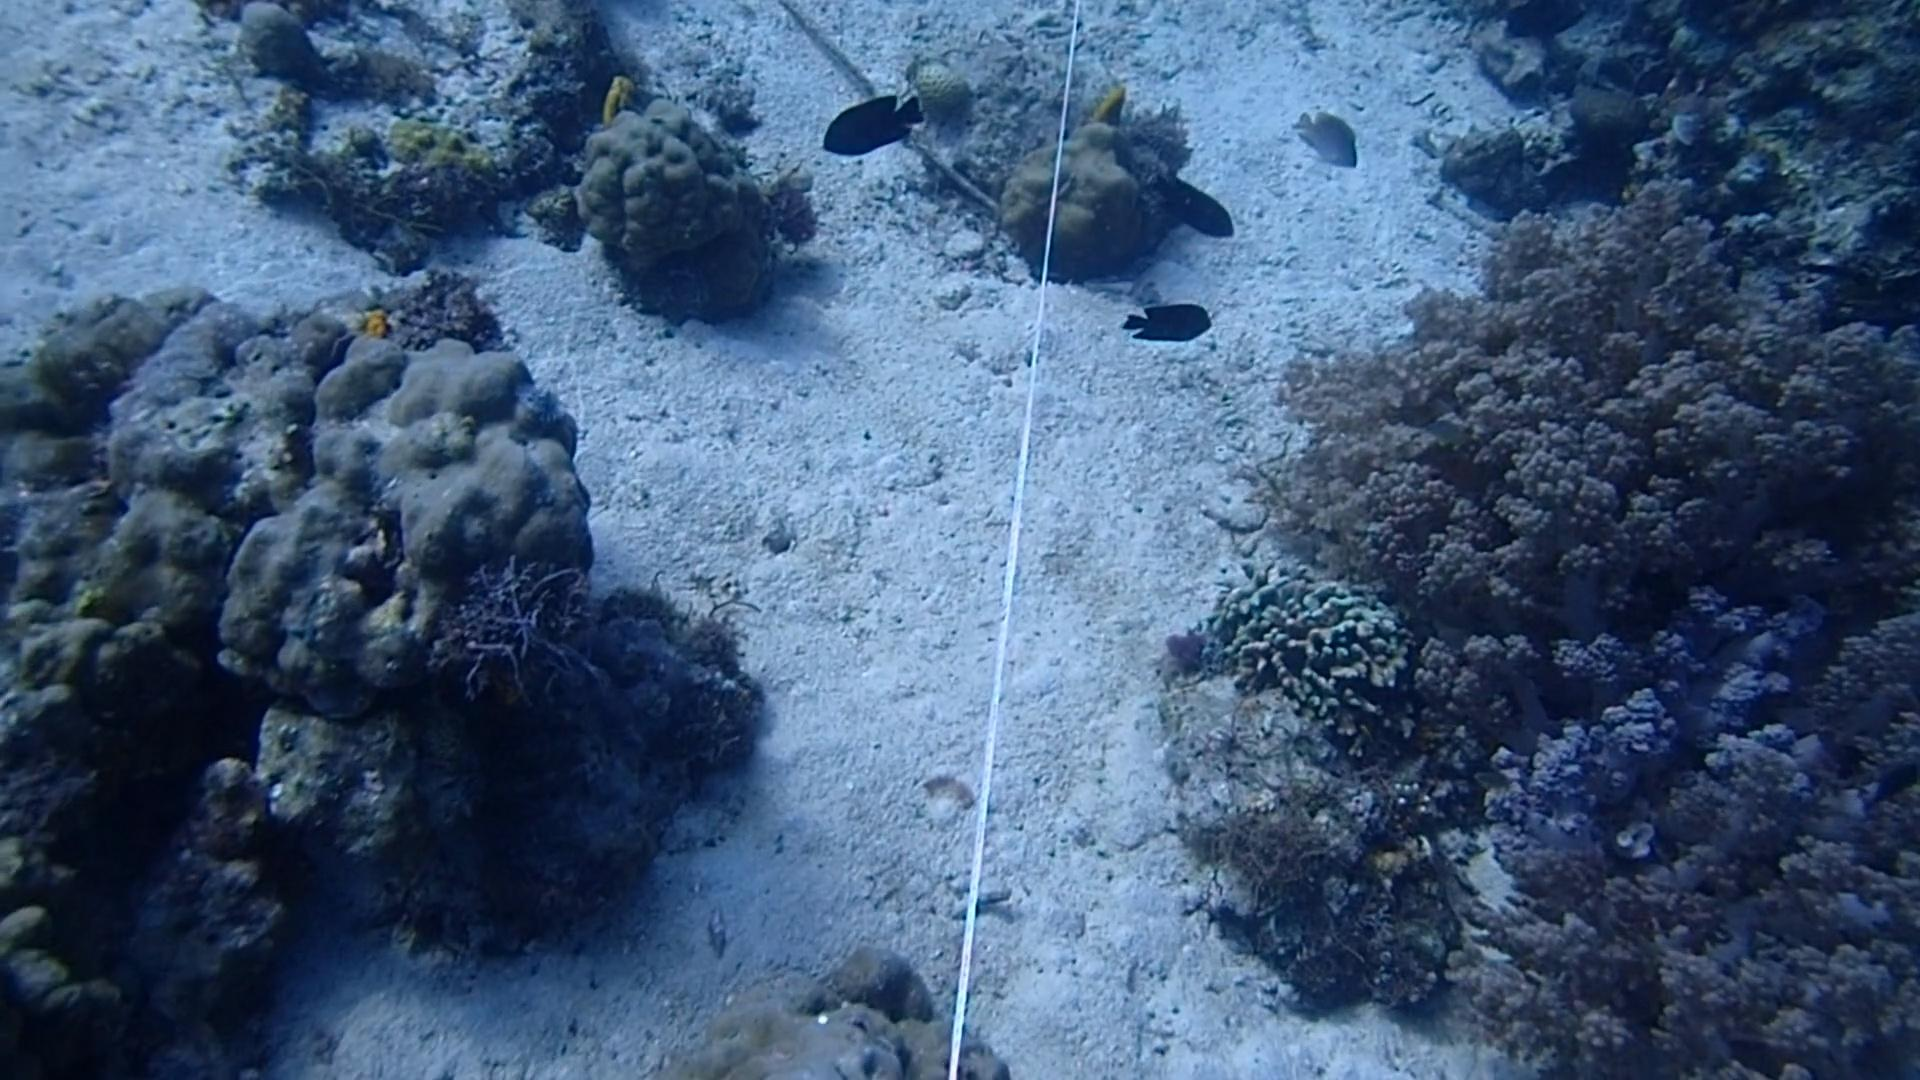Dark Fish: (812, 90, 922, 158), (1153, 162, 1237, 247), (1110, 295, 1222, 347), (1857, 756, 1920, 815)
Light Fish: (1284, 100, 1365, 177)
